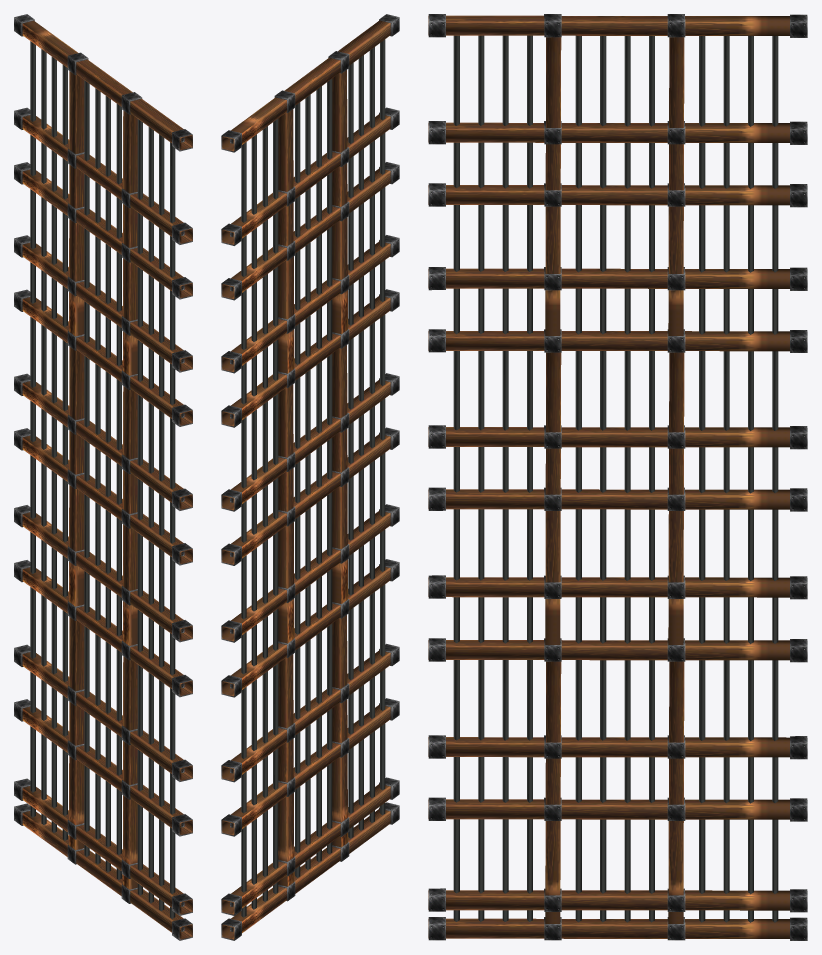
Rendered from INST_SWORDLIGHT_MAINGATE.obj.
3 views of the same model, side by side, from view 1: azimuth 30°, elevation 25°; view 2: azimuth 150°, elevation 25°; view 3: azimuth 270°, elevation 25° (orthographic). The views are drawn at different scales.
Parts seen in each view (by area): view 1: aingate_Lod1_01; view 2: aingate_Lod1_01; view 3: aingate_Lod1_01.
Part boxes in pixels (x1,y1,x2,y2): aingate_Lod1_01: (14, 14, 192, 940); aingate_Lod1_01: (221, 14, 399, 940); aingate_Lod1_01: (428, 14, 807, 940).
Size of the model in its own units: 25.29 by 1452 by 543.
